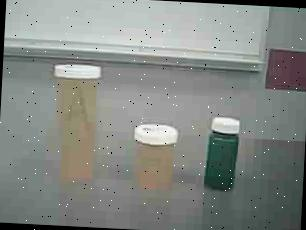Bottle A: (44, 59, 106, 185)
Bottle B: (128, 124, 186, 194)
Bottle C: (200, 113, 248, 202)
